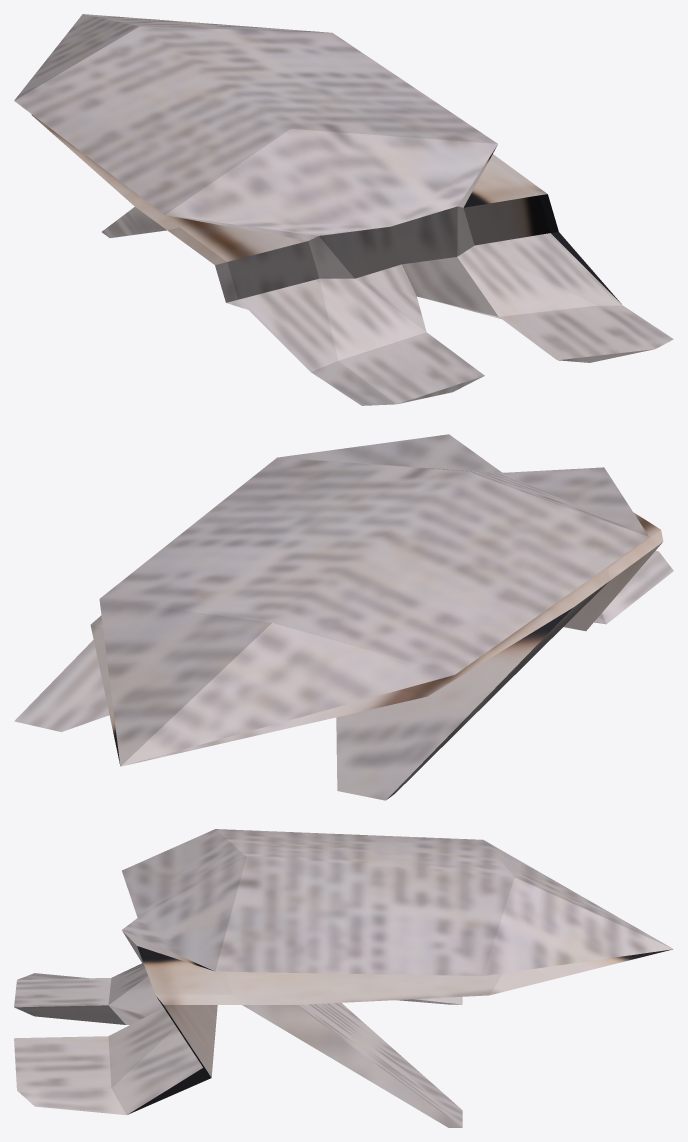
Rendered from FrogWalkAnim.FBX.
3 views of the same model, one above another, from view 1: azimuth 30°, elevation 25°; view 2: azimuth 150°, elevation 25°; view 3: azimuth 270°, elevation 25° (orthographic). The views are drawn at different scales.
Visible parts, largest first — view 1: Plane002; view 2: Plane002; view 3: Plane002.
Boxes of the visible parts, x1,y1,x2,y2 form: Plane002: (14, 14, 673, 405); Plane002: (14, 434, 673, 800); Plane002: (14, 829, 673, 1127).
Size of the model in its own units: 8.19 by 3.64 by 13.54.
Materials: 1 (1 with a texture image).
